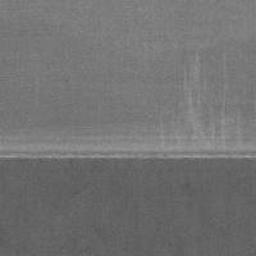Welding line: (0, 148, 256, 161)
